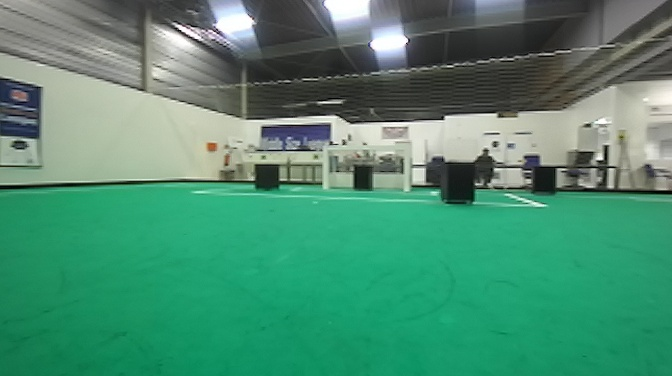goalpost: (318, 143, 332, 189), (401, 143, 412, 194)
